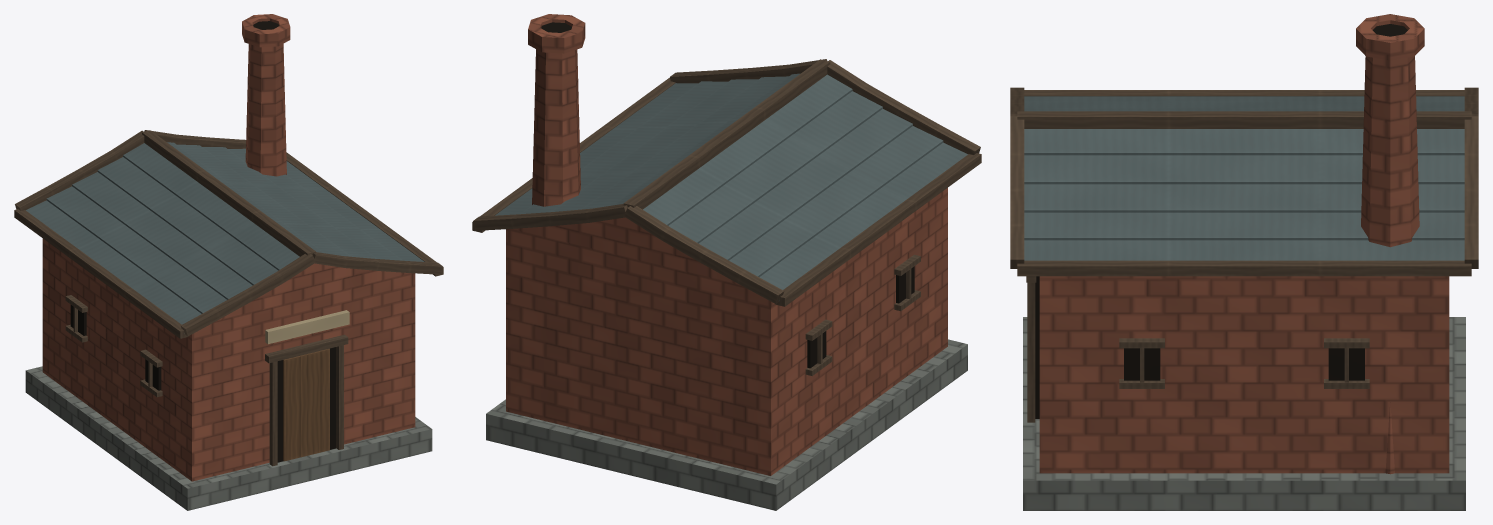
File: industrial-pump-house.glb
3 views of the same model, side by side, from view 1: azimuth 30°, elevation 25°; view 2: azimuth 150°, elevation 25°; view 3: azimuth 270°, elevation 25° (orthographic). The views are drawn at different scales.
Parts seen in each view (by area): view 1: industrial-pump-house; view 2: industrial-pump-house; view 3: industrial-pump-house.
Part boxes in pixels (x1,y1,x2,y2): industrial-pump-house: [14, 14, 443, 510]; industrial-pump-house: [472, 14, 981, 510]; industrial-pump-house: [1010, 14, 1478, 510].
Size of the model in its own units: 0.7652 by 0.9347 by 0.86.
Materials: 1 (1 with a texture image).
